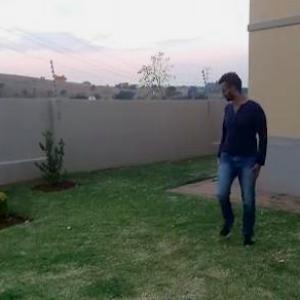follow: (211, 68, 271, 246)
